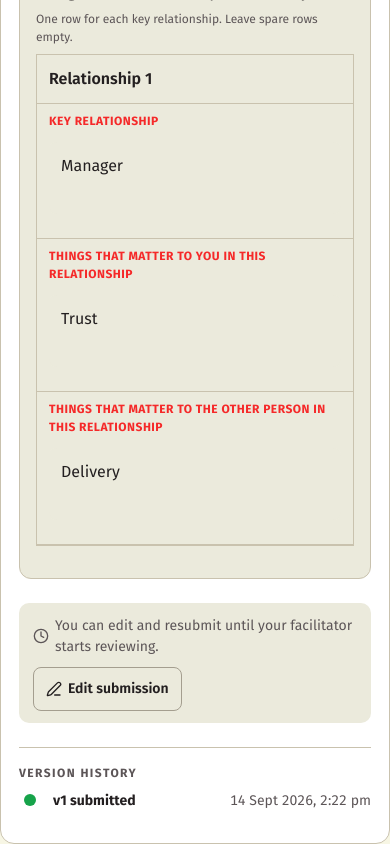
it: handed-in work, before review starts › marks a change and lets the learner resubmit it
(page scrolled)
Click the button "Edit submission".
click(107, 689)  # box [33,667,182,711]
(page scrolled)
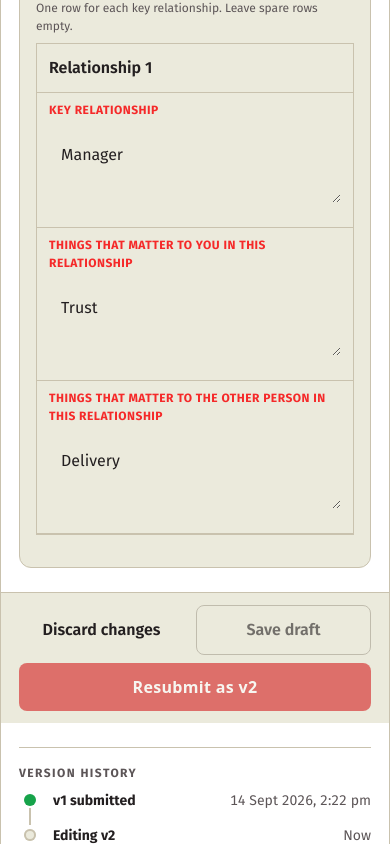
Replace the text in the text box named "Relationship 1 — Things that matter to you in this relationship" with "Trust and time" at (195, 320), box [49,284,341,356]
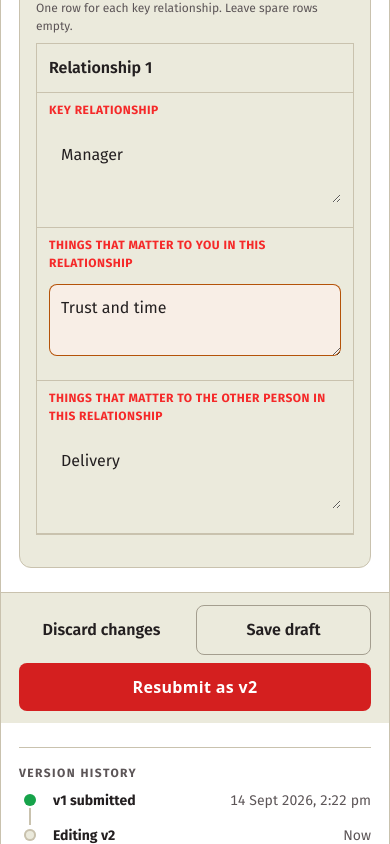
Expected: the button "Resubmit as v2" is enabled, [19,663,371,711]
